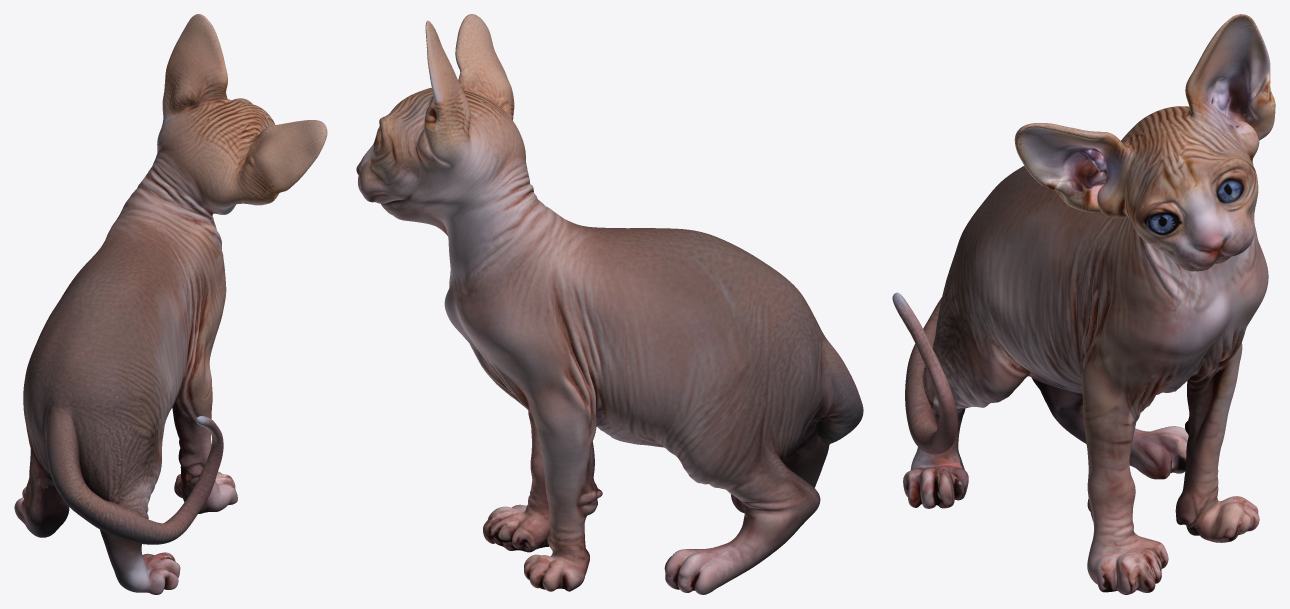
File: Pelon.fbx
3 renders of one model, left to right at view 1: azimuth 30°, elevation 25°; view 2: azimuth 150°, elevation 25°; view 3: azimuth 270°, elevation 25°, orthographic. The views are drawn at different scales.
Parts seen in each view (by area): view 1: tripo_node_5432033a; view 2: tripo_node_5432033a; view 3: tripo_node_5432033a.
Boxes of the visible parts, x1,y1,x2,y2 form: tripo_node_5432033a: [14, 14, 327, 594]; tripo_node_5432033a: [356, 14, 863, 594]; tripo_node_5432033a: [892, 14, 1275, 594].
Size of the model in its own units: 73.82 by 100 by 58.52.
Materials: 1 (1 with a texture image).
